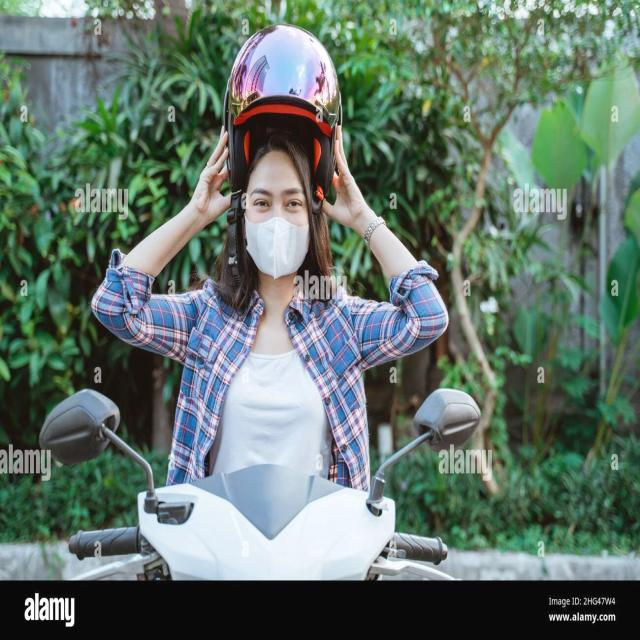helmet: (224, 25, 341, 282)
